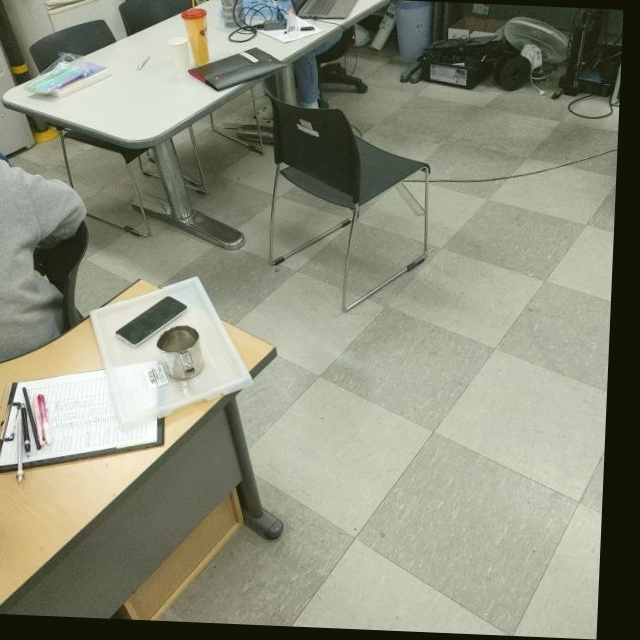cup: (153, 323, 204, 382)
phone: (117, 291, 188, 349)
